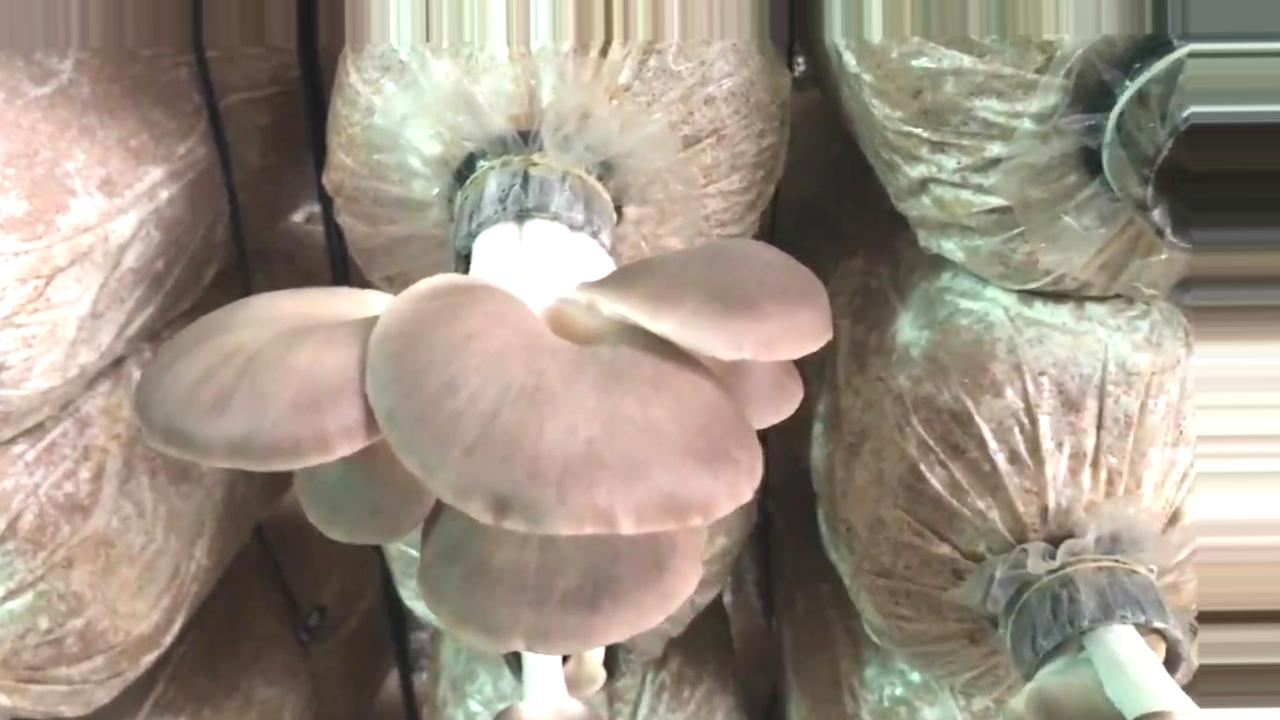nam: (134, 164, 834, 657), (1025, 569, 1198, 719), (493, 647, 605, 720)
